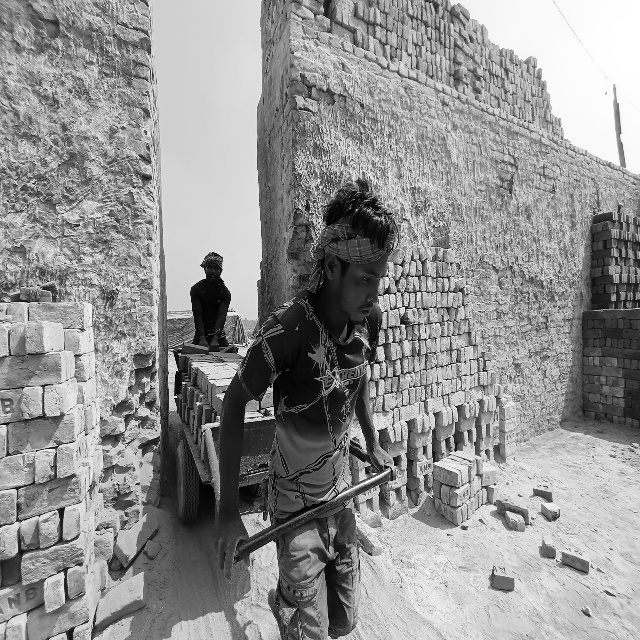Sin_guantes: (213, 512, 252, 582), (367, 442, 395, 474), (199, 333, 207, 349), (210, 334, 219, 347)
